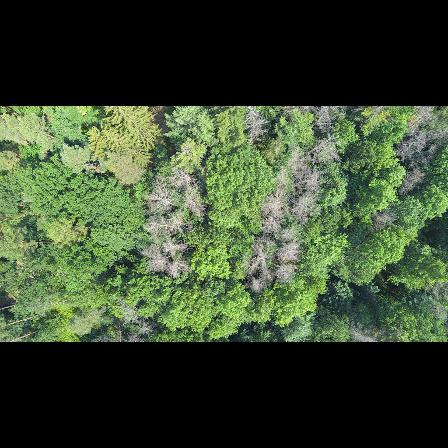Dead: (149, 179, 175, 213), (143, 250, 170, 275), (166, 253, 189, 280), (161, 236, 191, 256), (143, 216, 172, 235), (168, 214, 192, 236)
